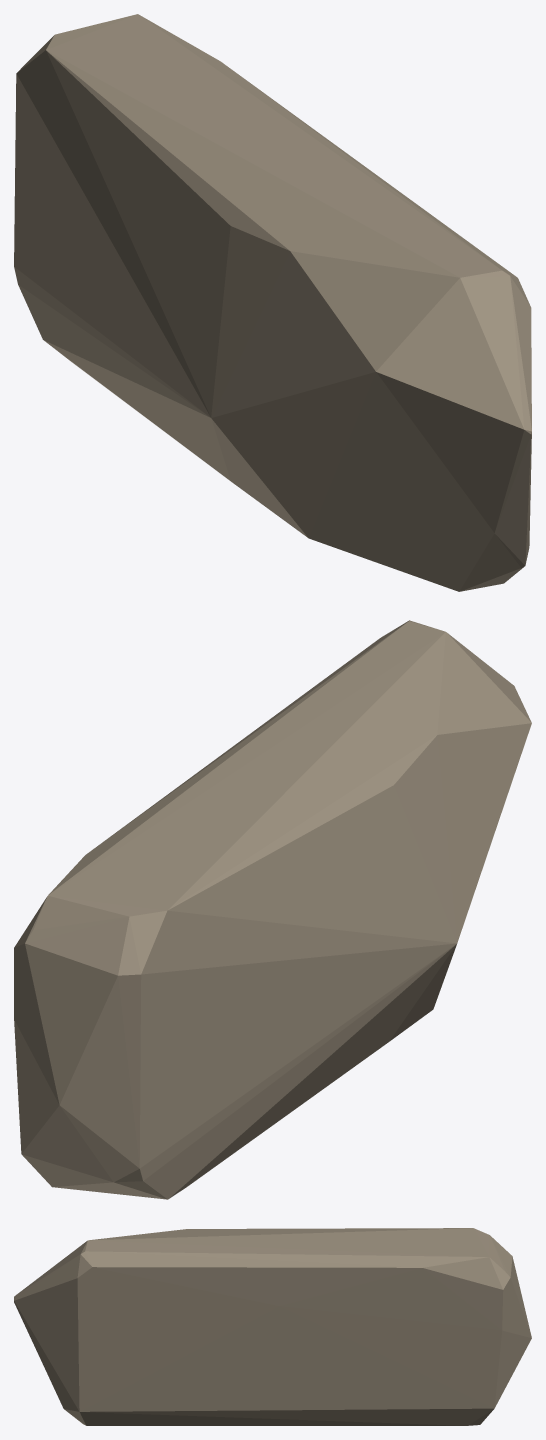
Rendered from testingTool_emission_tester_c01.glb.
3 renders of one model, top to bottom at view 1: azimuth 30°, elevation 25°; view 2: azimuth 150°, elevation 25°; view 3: azimuth 270°, elevation 25°, orthographic. The views are drawn at different scales.
Parts seen in each view (by area): view 1: geometry_0; view 2: geometry_0; view 3: geometry_0.
Boxes of the visible parts, left/top/right/bottom form: geometry_0: left=14, top=14, right=531, bottom=591; geometry_0: left=14, top=620, right=531, bottom=1199; geometry_0: left=14, top=1228, right=531, bottom=1425.
Size of the model in its own units: 0.1146 by 0.1779 by 0.4798.
